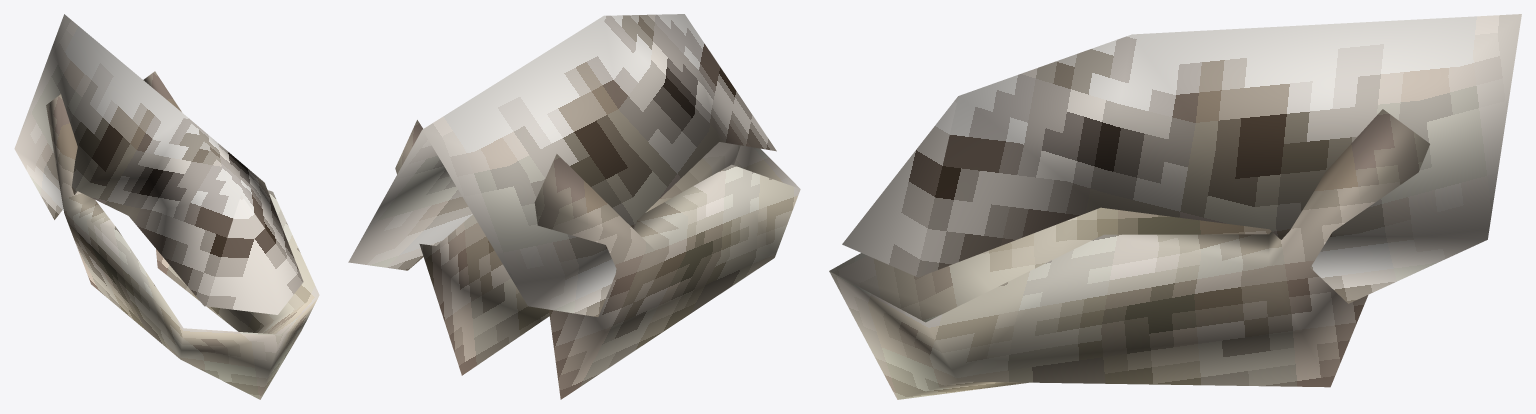
Rendered from thm_dant_lizard_skull_l3.fbx.
The picture shows the model from 3 angles, left to right: view 1: azimuth 30°, elevation 25°; view 2: azimuth 150°, elevation 25°; view 3: azimuth 270°, elevation 25°; orthographic projection. The views are drawn at different scales.
Visible parts, largest first — view 1: mesh_node; view 2: mesh_node; view 3: mesh_node.
Boxes of the visible parts, <box> form: mesh_node: <box>14,14,319,399</box>; mesh_node: <box>348,14,800,399</box>; mesh_node: <box>829,14,1521,399</box>.
Bounding box in the file's own units: 0.2368 × 0.345 × 0.5613.
Materials: 1 (1 with a texture image).
